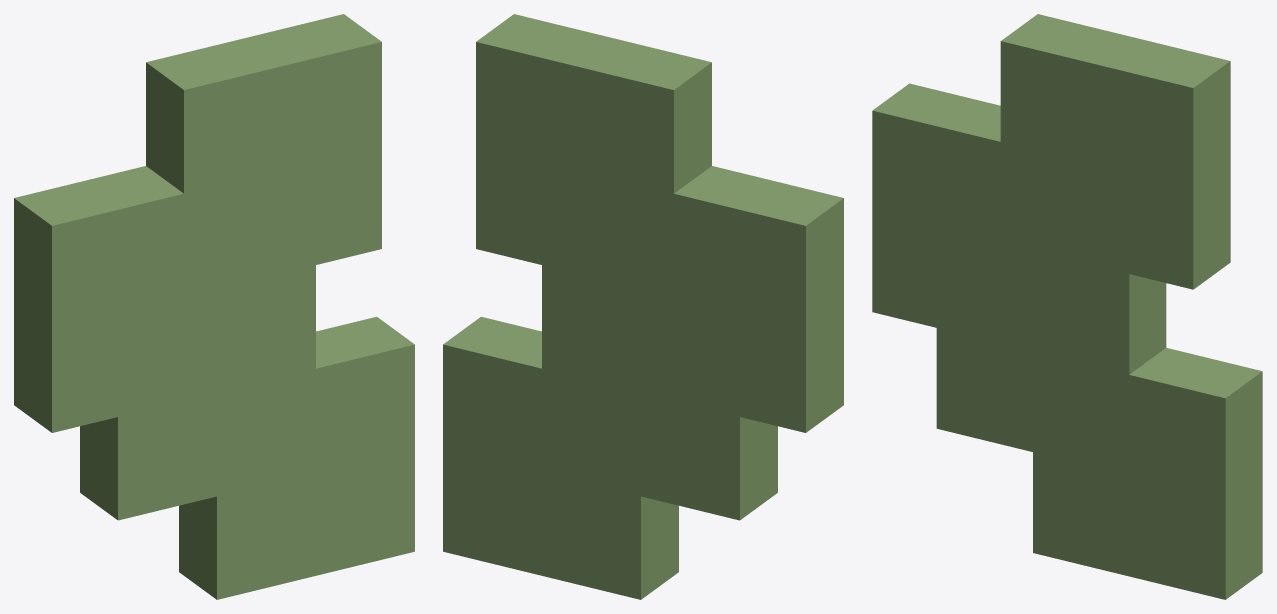
File: chumbera_05.glb
The picture shows the model from 3 angles, left to right: view 1: azimuth 30°, elevation 25°; view 2: azimuth 150°, elevation 25°; view 3: azimuth 330°, elevation 25°; orthographic projection. The views are drawn at different scales.
Parts seen in each view (by area): view 1: chumbera_05; view 2: chumbera_05; view 3: chumbera_05.
Part boxes in pixels (x1=…): chumbera_05: x1=14, y1=14, x2=414, y2=599; chumbera_05: x1=443, y1=14, x2=843, y2=599; chumbera_05: x1=872, y1=14, x2=1262, y2=599.
Bounding box in the file's own units: 1.1 × 1.5 × 0.2.
